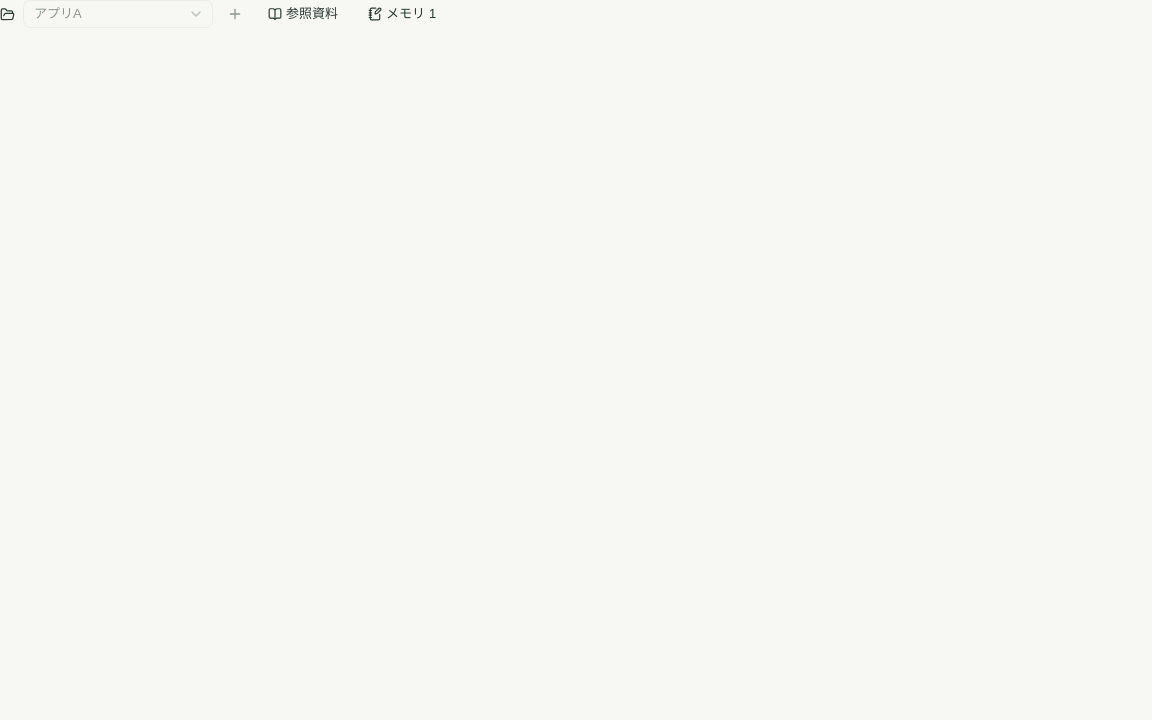
Test: disables deletion while the agent is running
The image size is (1152, 720).
Step 1. Click the button with aria-label "プロジェクトメモリ" → [402, 14], box [357,0,447,28]
(page scrolled)
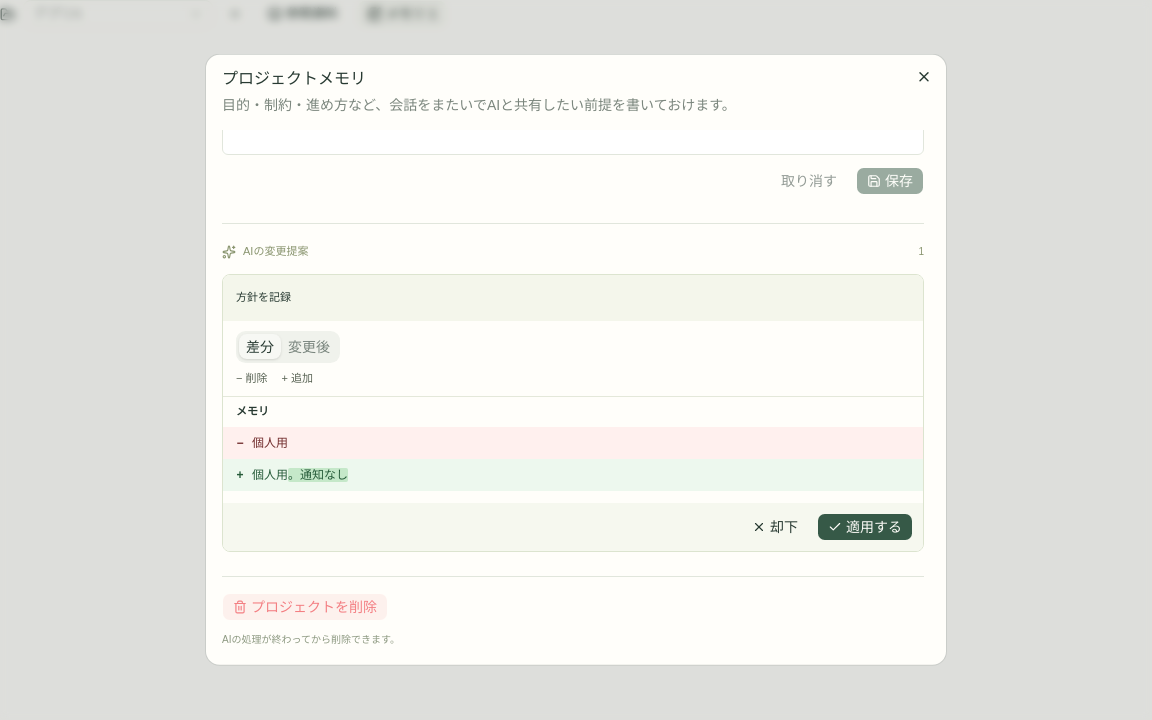
Now the button "プロジェクトを削除" is disabled, box [222,593,388,621]
